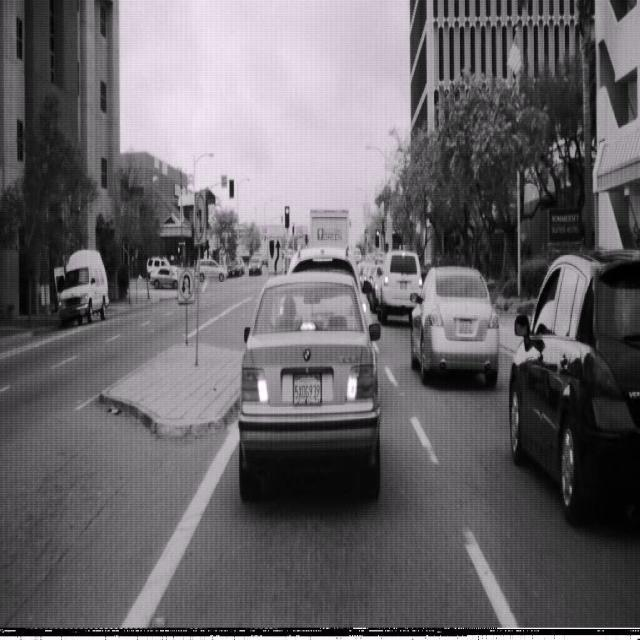noLeftTurn: (193, 189, 207, 244)
